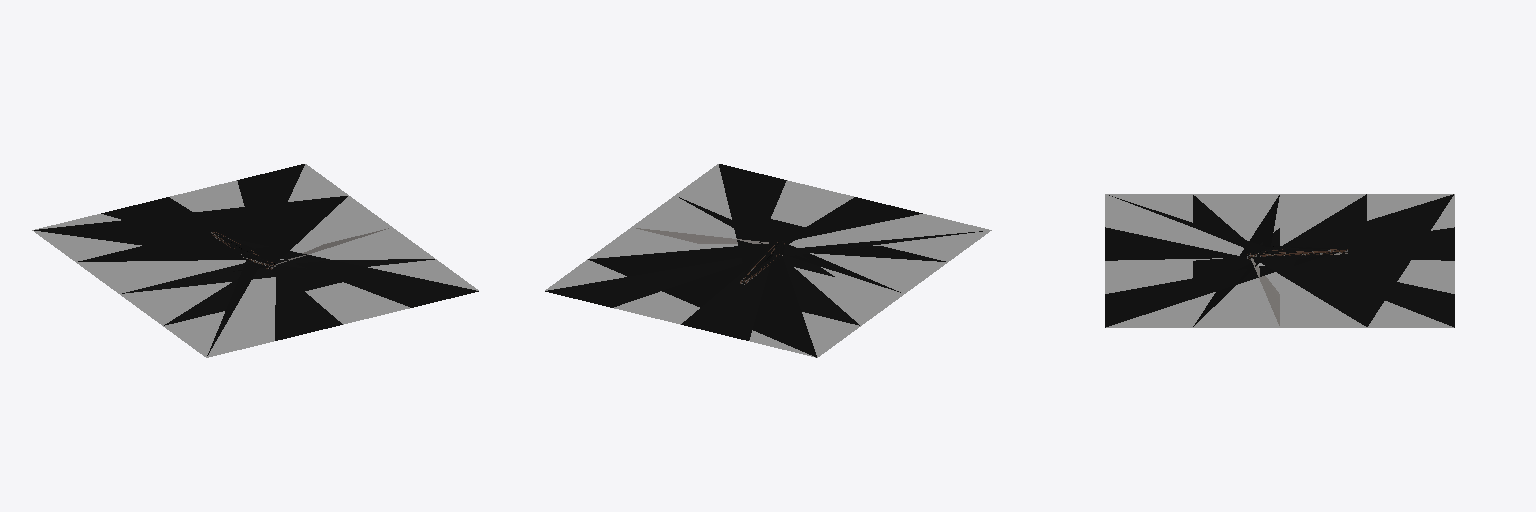
3 views of the same model, side by side, from view 1: azimuth 30°, elevation 25°; view 2: azimuth 150°, elevation 25°; view 3: azimuth 270°, elevation 25° (orthographic).
Parts seen in each view (by area): view 1: gun, Plane01; view 2: gun, Plane01; view 3: gun, Plane01.
Part boxes in pixels (left/top/right/bottom): gun: left=34, top=164, right=478, bottom=355; Plane01: left=32, top=164, right=478, bottom=357; gun: left=545, top=164, right=982, bottom=357; Plane01: left=545, top=164, right=991, bottom=357; gun: left=1105, top=194, right=1454, bottom=327; Plane01: left=1105, top=194, right=1454, bottom=327.
Bounding box in the file's own units: 1.02 × 0.0347 × 1.12.
Materials: 6 (2 with a texture image).